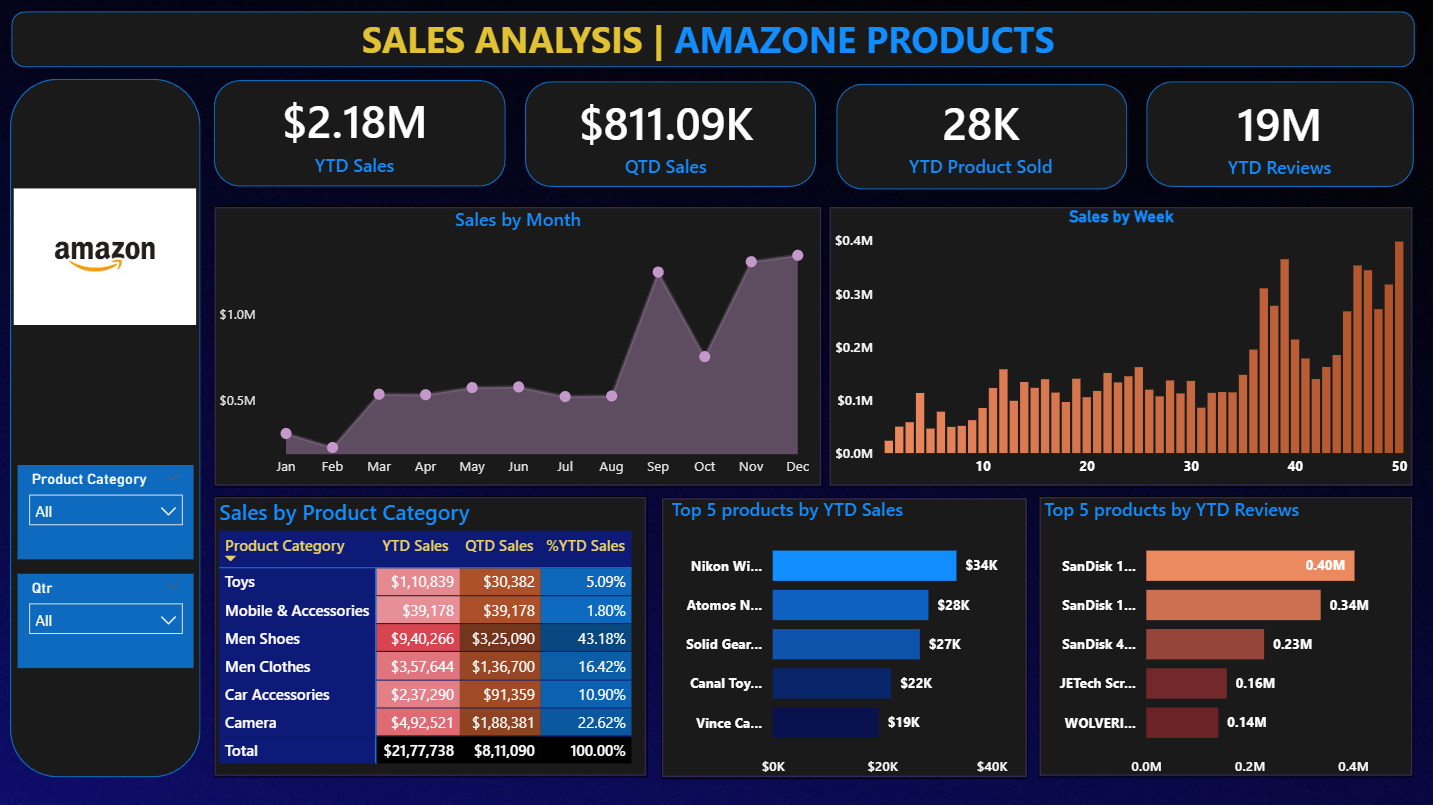

This screenshot's page, from the dashboard's own definition file:
{"tool":"powerbi","page":{"name":"Page 1","canvas":[1280,720],"ordinal":0},"visuals":[{"type":"shape","box":[1020.9,72.1,238.4,94.2],"z":0},{"type":"shape","box":[744.4,74.4,259.3,94.2],"z":1000},{"type":"shape","box":[9.6,9.6,1250,50],"z":2000},{"type":"textbox","box":[317,8.2,634,52.1],"z":3000},{"type":"shape","box":[9.3,69.8,169.8,622.1],"z":4000},{"type":"shape","box":[190.7,70.9,260,95],"z":5000},{"type":"shape","box":[467.9,72.1,259.3,94.2],"z":6000},{"type":"card","fields":{"Values":["Amazon_Data.YTD Sales"]},"box":[190.7,74.4,251.2,87.2],"z":6000,"group":"g1"},{"type":"group","id":"g1","title":"Group 1","box":[190.7,74.4,1074.4,89.5],"z":7000},{"type":"card","fields":{"Values":["Amazon_Data.YTD Product Sold"]},"box":[748.8,75.6,251.2,87.2],"z":8000,"group":"g1"},{"type":"shape","box":[190.7,183.7,542,250],"z":8000},{"type":"card","fields":{"Values":["Amazon_Data.QTD Sales"]},"box":[467.4,75.6,251.2,87.2],"z":9000,"group":"g1"},{"type":"stackedAreaChart","title":" Sales by Month ","fields":{"Category":["Date Table.Month Name"],"Y":["Sum(Amazon_Data.Price(Dollar))"]},"box":[190.7,183.7,541.9,250],"z":9000},{"type":"card","fields":{"Values":["Amazon_Data.YTD Reviews"]},"box":[1014,76.7,251.2,87.2],"z":10000,"group":"g1"},{"type":"shape","box":[738.4,183.7,520.9,250],"z":10000},{"type":"columnChart","title":"Sales by Week","fields":{"Category":["Date Table.Week"],"Y":["Sum(Amazon_Data.Price(Dollar))"]},"box":[738.4,183.7,520.9,250],"z":11000},{"type":"shape","box":[190.7,441.9,386,250],"z":12000},{"type":"pivotTable","title":"Sales by Product Category","fields":{"Rows":["Amazon_Data.Product Category"],"Values":["Amazon_Data.YTD Sales1","Amazon_Data.QTD Sales","Amazon_Data.YTD Sales"]},"box":[190.7,443,397.7,250],"z":13000},{"type":"shape","box":[588.4,443,326.7,250],"z":14000},{"type":"clusteredBarChart","title":"Top 5 products by YTD Sales ","fields":{"Category":["Amazon_Data.Product Description"],"Y":["Amazon_Data.YTD Sales"]},"box":[593,441.9,326.7,259.3],"z":15000},{"type":"shape","box":[925.6,441.9,333.7,250],"z":16000},{"type":"clusteredBarChart","title":"Top 5 products by YTD Reviews ","fields":{"Category":["Amazon_Data.Product Description"],"Y":["Amazon_Data.YTD Reviews"]},"box":[925.6,441.9,333.7,259.3],"z":17000},{"type":"slicer","fields":{"Values":["Amazon_Data.Product Category"]},"box":[15.1,414,157,83.7],"z":18000},{"type":"slicer","fields":{"Values":["Date Table.Qtr"]},"box":[15.1,510.5,157,83.7],"z":18001},{"type":"image","box":[12.8,161.6,162.8,134.9],"z":18002}]}

Visuals, with their boxes in screenshot pixels (x1, y1, x2, y2), scaled from the page's 1280x720 canvas onto the 1433x805 screenshot:
shape: select_region(1143, 81, 1410, 186)
shape: select_region(833, 83, 1124, 189)
shape: select_region(11, 11, 1410, 67)
textbox: select_region(355, 9, 1065, 67)
shape: select_region(10, 78, 201, 774)
shape: select_region(213, 79, 505, 185)
shape: select_region(524, 81, 814, 186)
card - Amazon_Data.YTD Sales: select_region(213, 83, 495, 181)
"Group 1" group: select_region(213, 83, 1416, 183)
card - Amazon_Data.YTD Product Sold: select_region(838, 85, 1120, 182)
shape: select_region(213, 205, 820, 485)
card - Amazon_Data.QTD Sales: select_region(523, 85, 804, 182)
" Sales by Month " stackedAreaChart: select_region(213, 205, 820, 485)
card - Amazon_Data.YTD Reviews: select_region(1135, 86, 1416, 183)
shape: select_region(827, 205, 1410, 485)
"Sales by Week" columnChart: select_region(827, 205, 1410, 485)
shape: select_region(213, 494, 646, 774)
"Sales by Product Category" pivotTable: select_region(213, 495, 659, 775)
shape: select_region(659, 495, 1024, 775)
"Top 5 products by YTD Sales " clusteredBarChart: select_region(664, 494, 1030, 784)
shape: select_region(1036, 494, 1410, 774)
"Top 5 products by YTD Reviews " clusteredBarChart: select_region(1036, 494, 1410, 784)
slicer - Amazon_Data.Product Category: select_region(17, 463, 193, 556)
slicer - Date Table.Qtr: select_region(17, 571, 193, 664)
image: select_region(14, 181, 197, 332)
